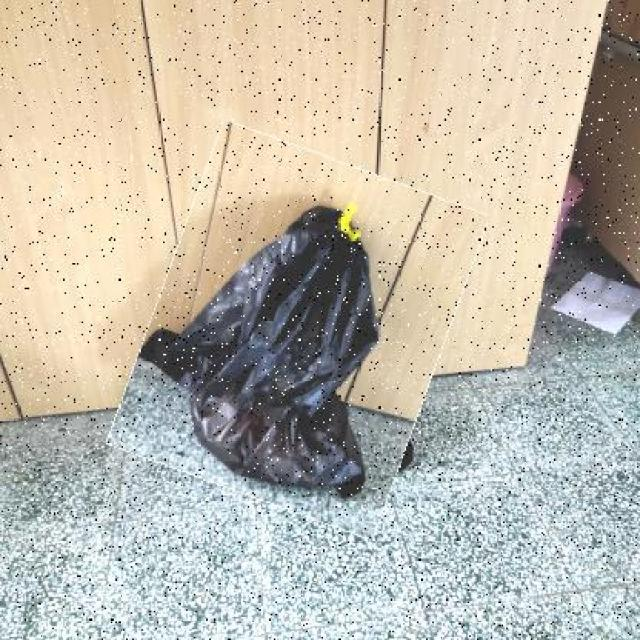waste: (132, 138, 466, 522)
